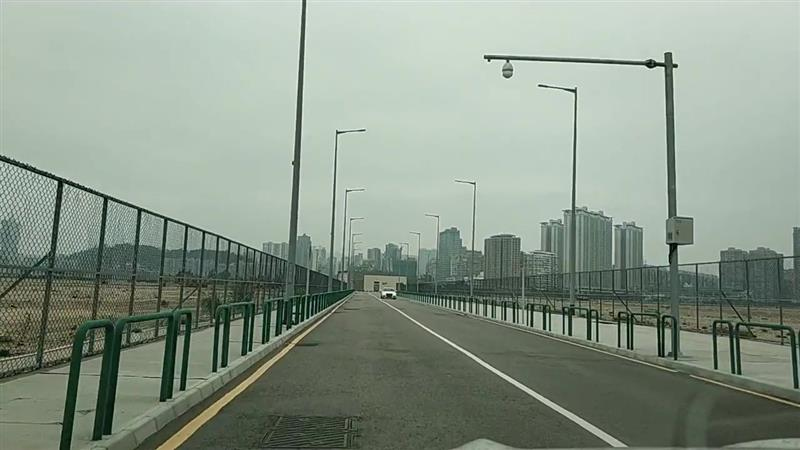car: (378, 286, 399, 299)
